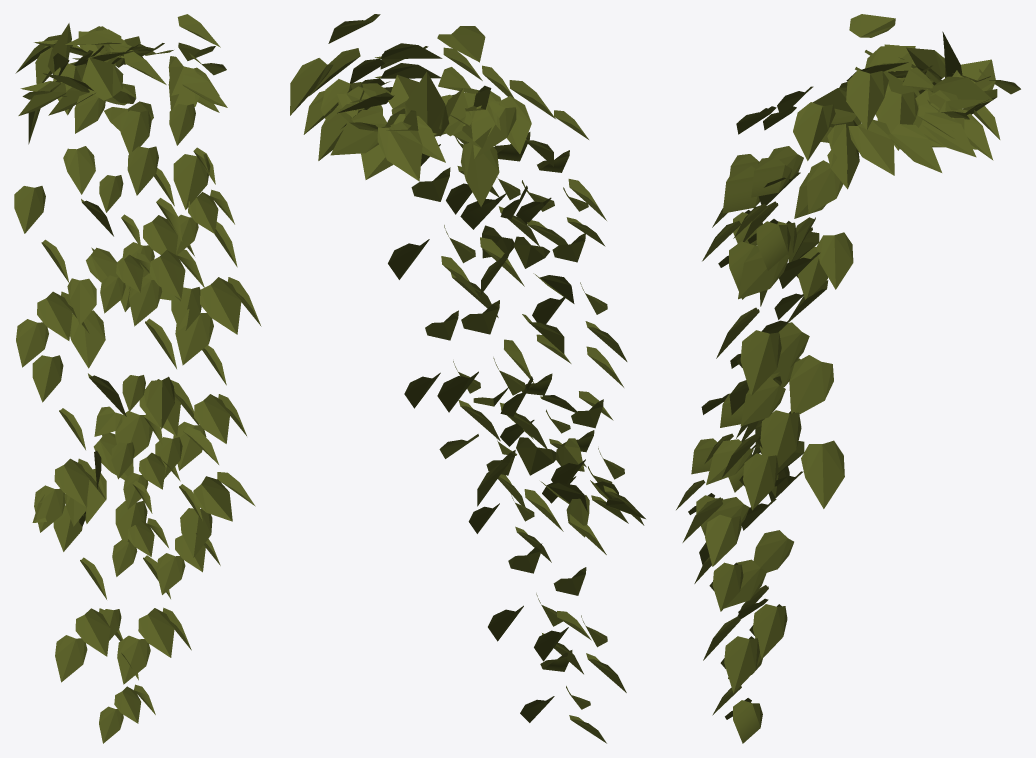
Rendered from Flower_leaf1_smaller_cleanasdfasfasdfas_0.obj.
3 renders of one model, left to right at view 1: azimuth 30°, elevation 25°; view 2: azimuth 150°, elevation 25°; view 3: azimuth 270°, elevation 25°, orthographic. The views are drawn at different scales.
Parts seen in each view (by area): view 1: Flower_leaf1_smaller_cleanasdfasfasdfas_0; view 2: Flower_leaf1_smaller_cleanasdfasfasdfas_0; view 3: Flower_leaf1_smaller_cleanasdfasfasdfas_0.
Boxes of the visible parts, box(x1,y1,x2,y2) form: Flower_leaf1_smaller_cleanasdfasfasdfas_0: box(14, 14, 261, 743); Flower_leaf1_smaller_cleanasdfasfasdfas_0: box(290, 14, 645, 743); Flower_leaf1_smaller_cleanasdfasfasdfas_0: box(676, 14, 1020, 743).
Bounding box in the file's own units: 0.2433 × 0.6154 × 0.2628.
